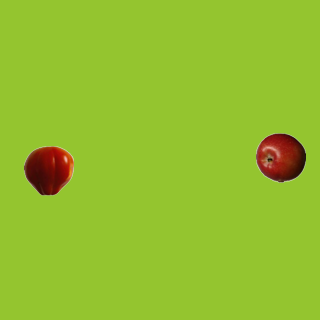Apple Braeburn: (255, 132, 305, 182)
Tomato 1: (23, 145, 73, 195)
